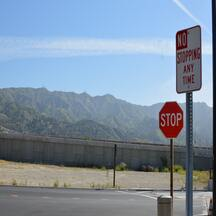Circle: (158, 100, 183, 138)
